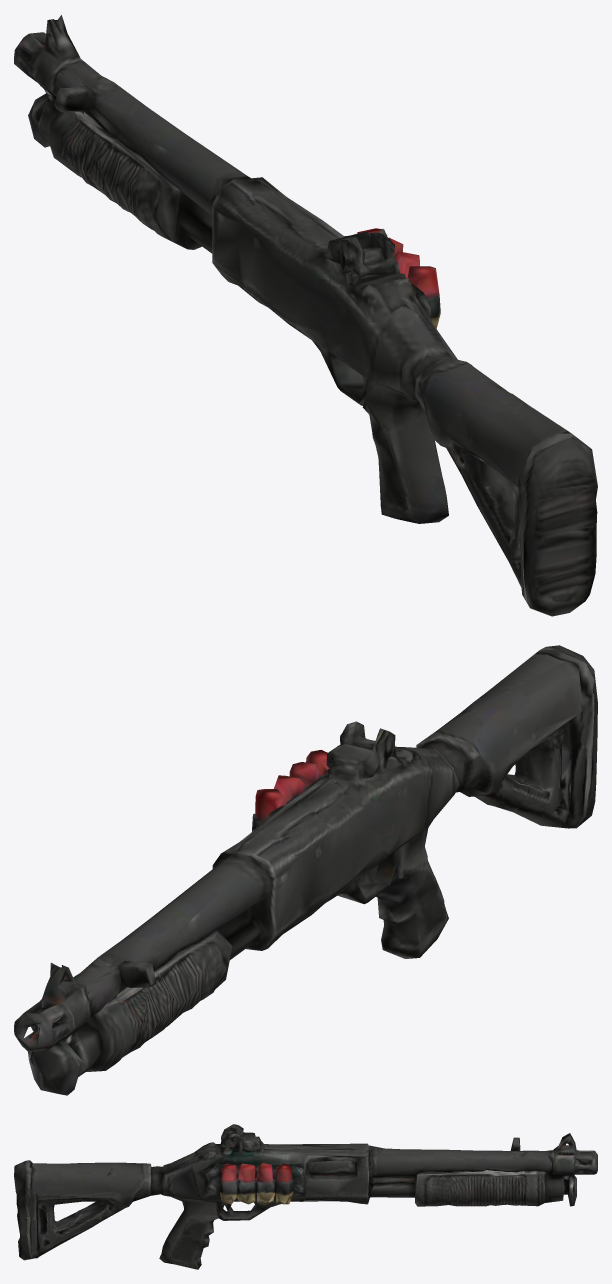
File: shotgun_lod.glb
3 renders of one model, top to bottom at view 1: azimuth 30°, elevation 25°; view 2: azimuth 150°, elevation 25°; view 3: azimuth 270°, elevation 25°, orthographic. The views are drawn at different scales.
Visible parts, largest first — view 1: tripo_node_2ee9841c-5caa-4eb2-9f39-3c776b1c661d; view 2: tripo_node_2ee9841c-5caa-4eb2-9f39-3c776b1c661d; view 3: tripo_node_2ee9841c-5caa-4eb2-9f39-3c776b1c661d.
Part boxes in pixels (bbox=[...]): tripo_node_2ee9841c-5caa-4eb2-9f39-3c776b1c661d: bbox=[14, 15, 597, 616]; tripo_node_2ee9841c-5caa-4eb2-9f39-3c776b1c661d: bbox=[14, 645, 597, 1095]; tripo_node_2ee9841c-5caa-4eb2-9f39-3c776b1c661d: bbox=[14, 1124, 597, 1269].
Bounding box in the file's own units: 0.1218 × 0.2549 × 0.9819.
1 material, 1 textured.
